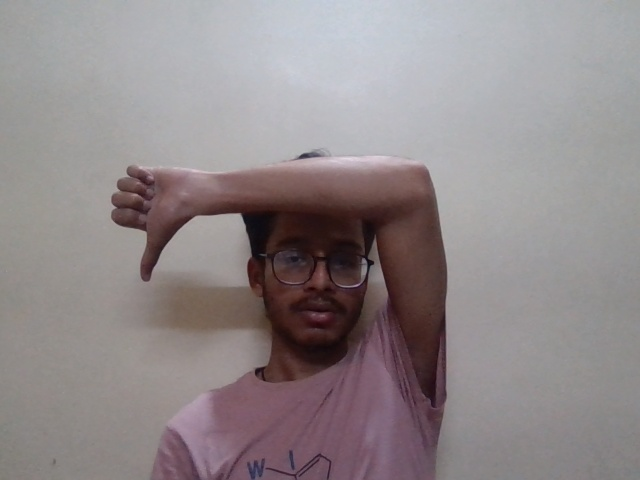no: (110, 154, 193, 288)
